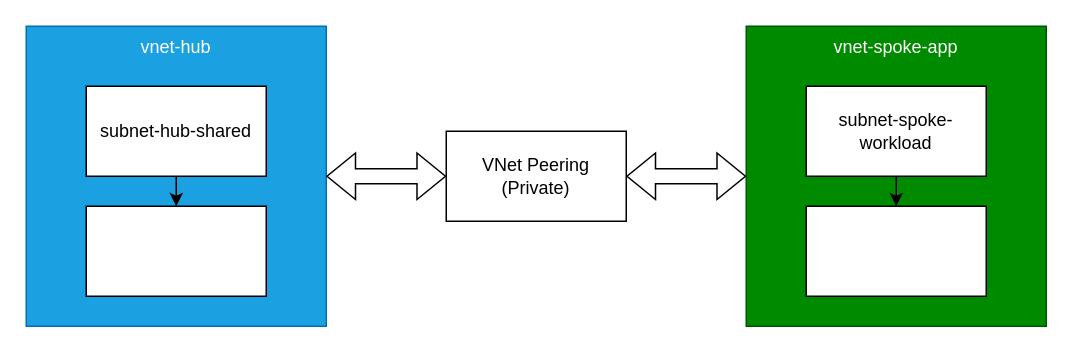
The diagram is 1073 pixels wide and 353 high, and some of its shapes have lost their labels. The shapes that lost their labels are listed below. From the top down, each one's box as (x1, y1, x2, y2) in pixels, then its label:
(85, 205, 266, 296): nsg-hub-shared
(805, 205, 986, 296): nsg-spoke-workload
